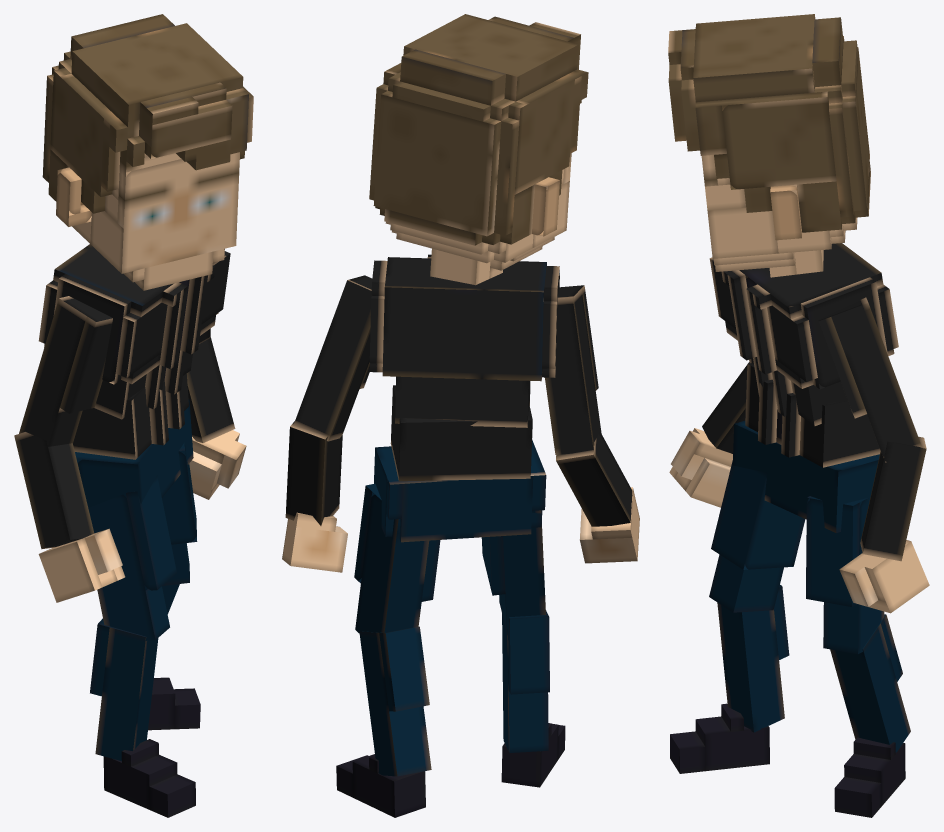
Rendered from finley.fbx.
3 views of the same model, side by side, from view 1: azimuth 30°, elevation 25°; view 2: azimuth 150°, elevation 25°; view 3: azimuth 270°, elevation 25° (orthographic).
Visible parts, largest first — view 1: Finley; view 2: Finley; view 3: Finley.
Part boxes in pixels (x1,y1,x2,y2): Finley: [14, 14, 253, 817]; Finley: [282, 14, 639, 817]; Finley: [668, 14, 929, 817].
Bounding box in the file's own units: 83.09 × 214 × 68.99.
